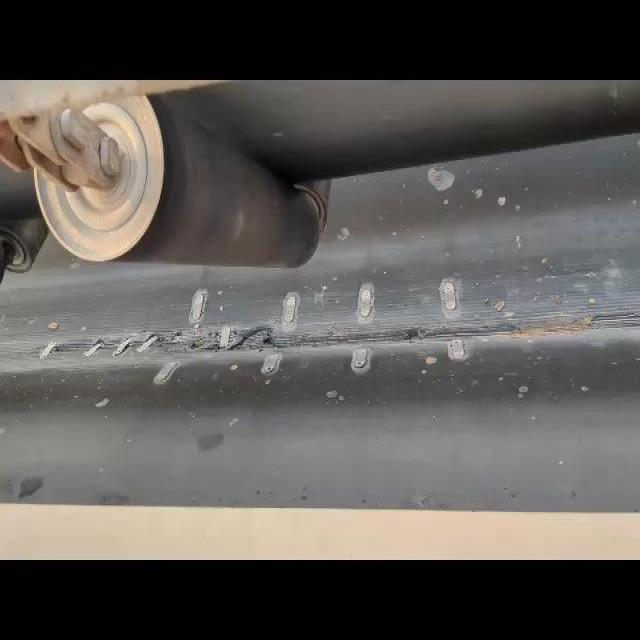Tear: (195, 321, 288, 357)
Wear: (31, 310, 638, 366)
